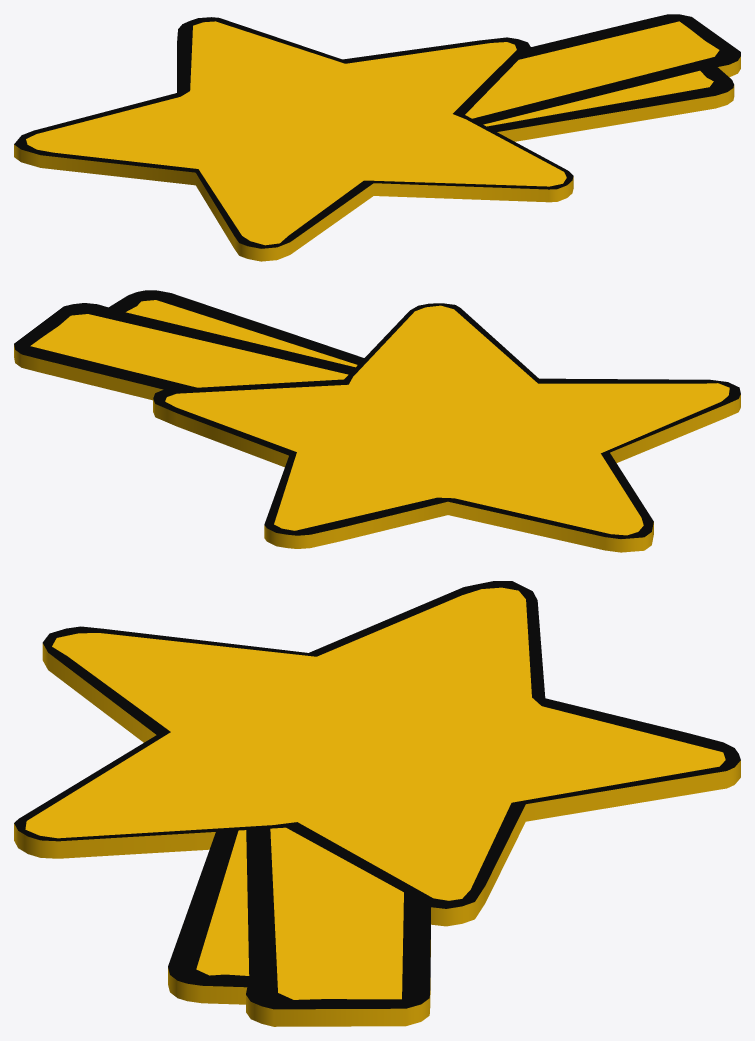
Rendered from Presilha2semsmooth.fbx.
3 views of the same model, one above another, from view 1: azimuth 30°, elevation 25°; view 2: azimuth 150°, elevation 25°; view 3: azimuth 270°, elevation 25° (orthographic). The views are drawn at different scales.
Visible parts, largest first — view 1: Presilha; view 2: Presilha; view 3: Presilha.
Part boxes in pixels (x1,y1,x2,y2): Presilha: [14, 14, 740, 261]; Presilha: [14, 290, 740, 552]; Presilha: [14, 581, 740, 1026].
Size of the model in its own units: 57.22 by 1.09 by 41.05.
